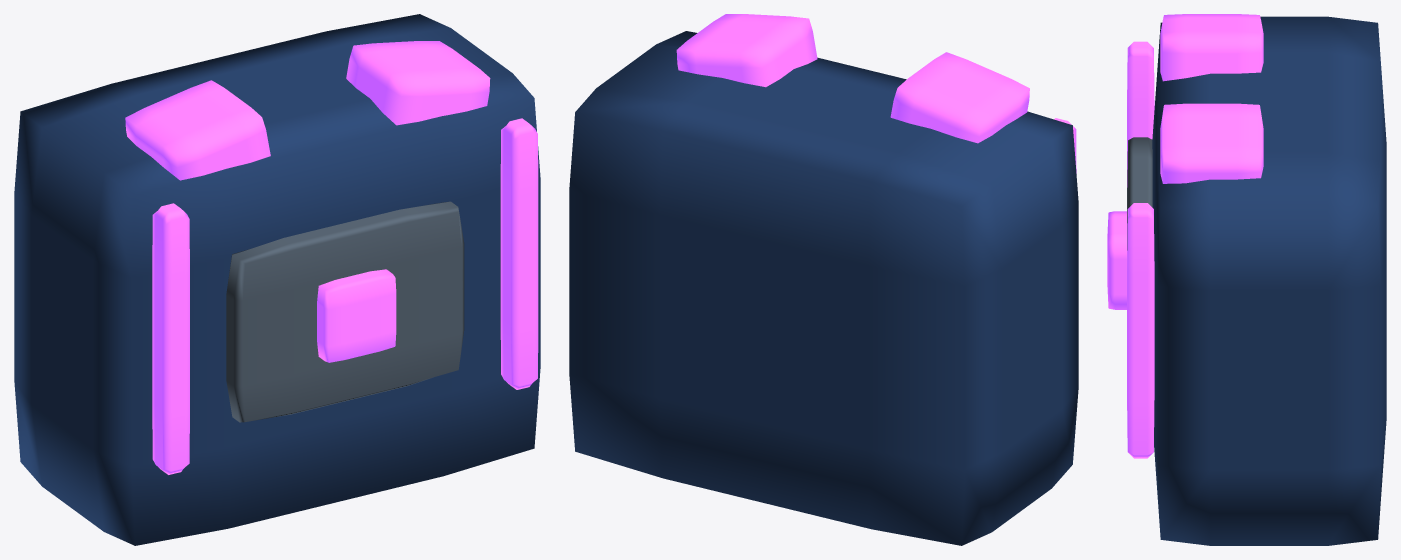
File: jacket-neon.glb
The picture shows the model from 3 angles, left to right: view 1: azimuth 30°, elevation 25°; view 2: azimuth 150°, elevation 25°; view 3: azimuth 270°, elevation 25°; orthographic projection. The views are drawn at different scales.
Parts seen in each view (by area): view 1: Torso, Panel, StripeR, StripeL, CollarL, CollarR, Core; view 2: Torso, CollarL, CollarR; view 3: Torso, CollarR, StripeR, CollarL, StripeL, Core, Panel.
Boxes of the visible parts, x1,y1,x2,y2 form: Torso: (14,14,540,545); Panel: (226,201,464,422); StripeR: (500,118,538,389); StripeL: (152,203,189,474); CollarL: (125,80,270,180); CollarR: (346,41,490,125); Core: (317,269,396,362); Torso: (569,31,1078,545); CollarL: (890,52,1029,143); CollarR: (676,14,817,87); Torso: (1152,16,1386,545); CollarR: (1160,103,1263,183); StripeR: (1127,203,1154,458); CollarL: (1160,14,1263,81); StripeL: (1127,41,1154,187); Core: (1107,211,1126,309); Panel: (1127,137,1152,250).
Bounding box in the file's own units: 2.05 × 1.87 × 1.22.
